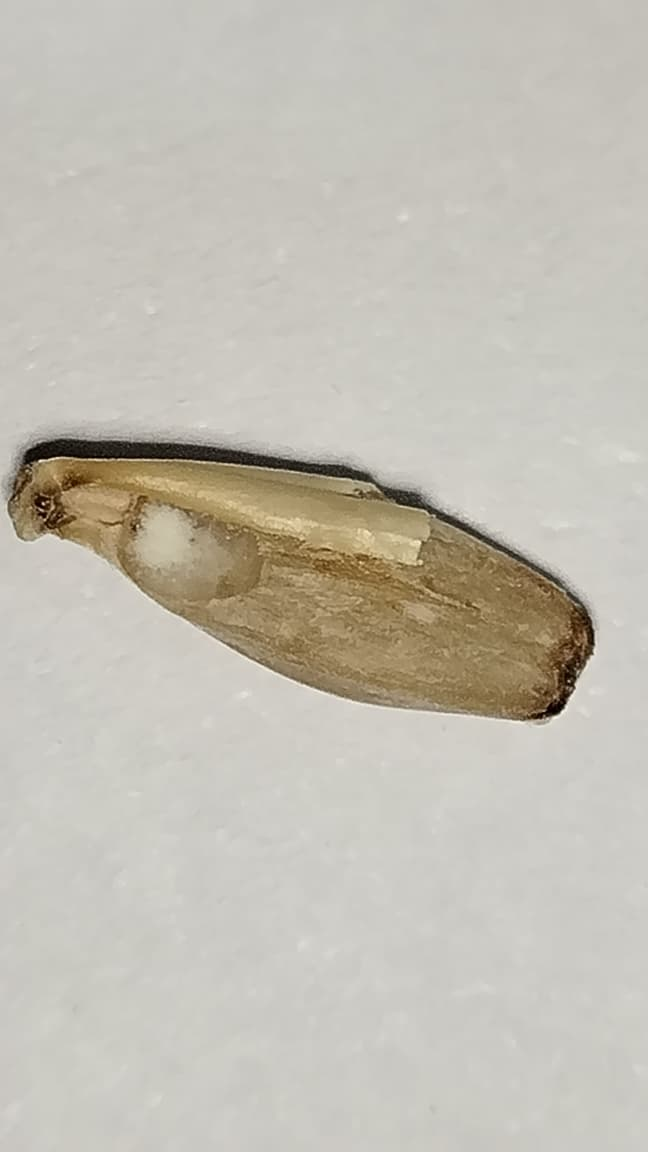damage: (10, 457, 592, 719)
molddamage: (120, 497, 266, 614)
staindamage: (527, 601, 595, 725)
